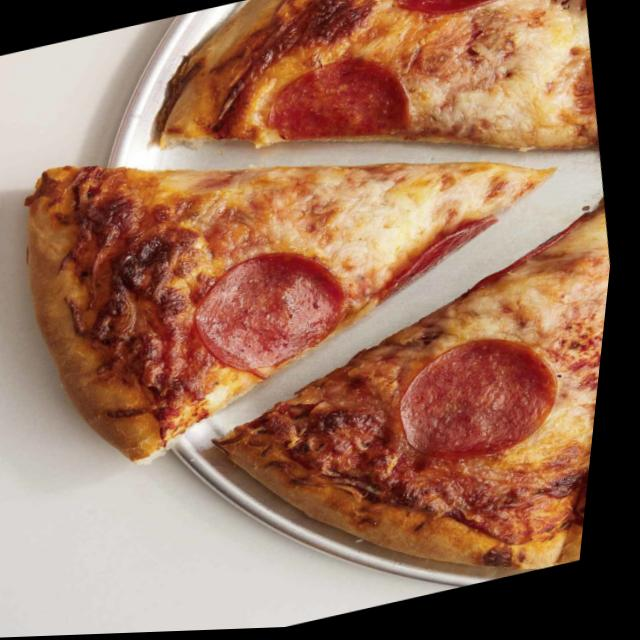pizza: (0, 0, 640, 640)
